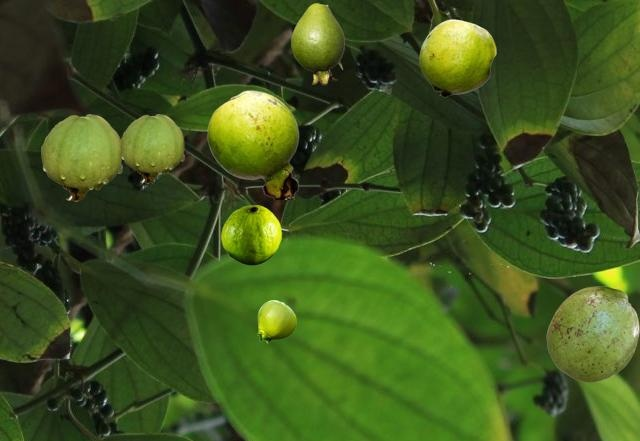guava: (207, 90, 298, 198), (546, 286, 638, 381), (41, 114, 121, 200), (419, 19, 495, 96), (120, 114, 183, 182), (291, 3, 343, 84), (221, 205, 280, 264), (257, 300, 295, 342)
